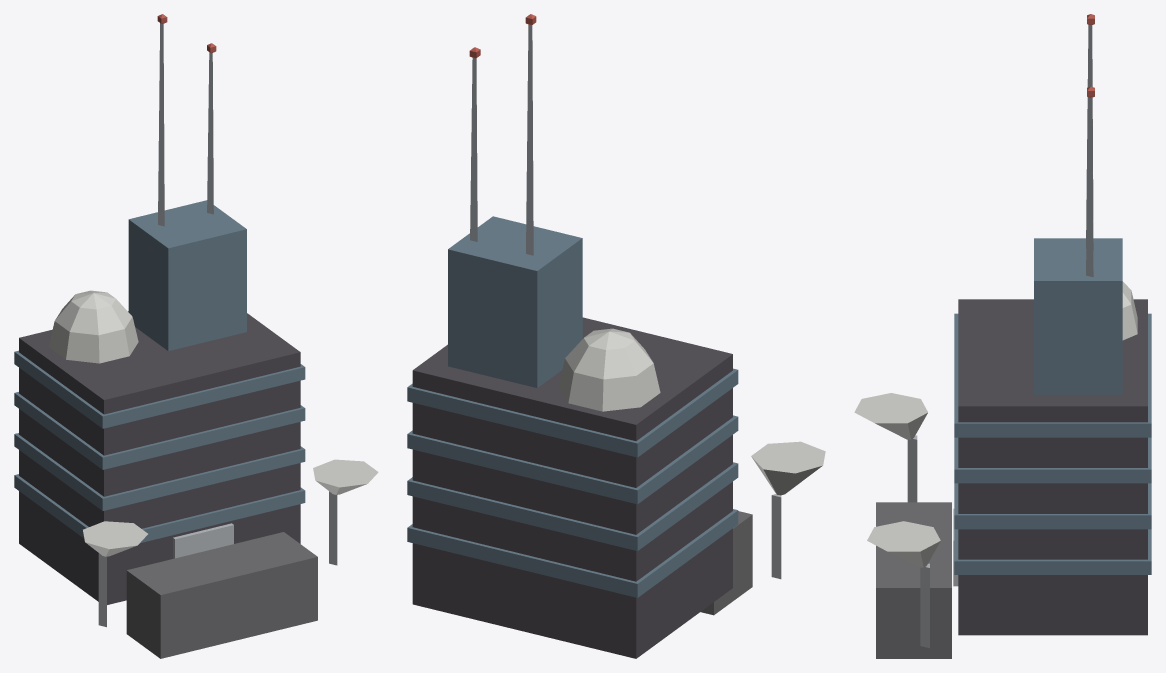
The model's file is national-national-intelligence-agency.glb.
3 renders of one model, left to right at view 1: azimuth 30°, elevation 25°; view 2: azimuth 150°, elevation 25°; view 3: azimuth 270°, elevation 25°, orthographic. The views are drawn at different scales.
Parts seen in each view (by area): view 1: LOD0; view 2: LOD0; view 3: LOD0.
Part boxes in pixels (bbox=[...]): LOD0: bbox=[14, 14, 378, 658]; LOD0: bbox=[407, 14, 825, 658]; LOD0: bbox=[854, 14, 1151, 658].
Size of what is drawn, in the model's own units: 0.297 by 0.535 by 0.2352.
